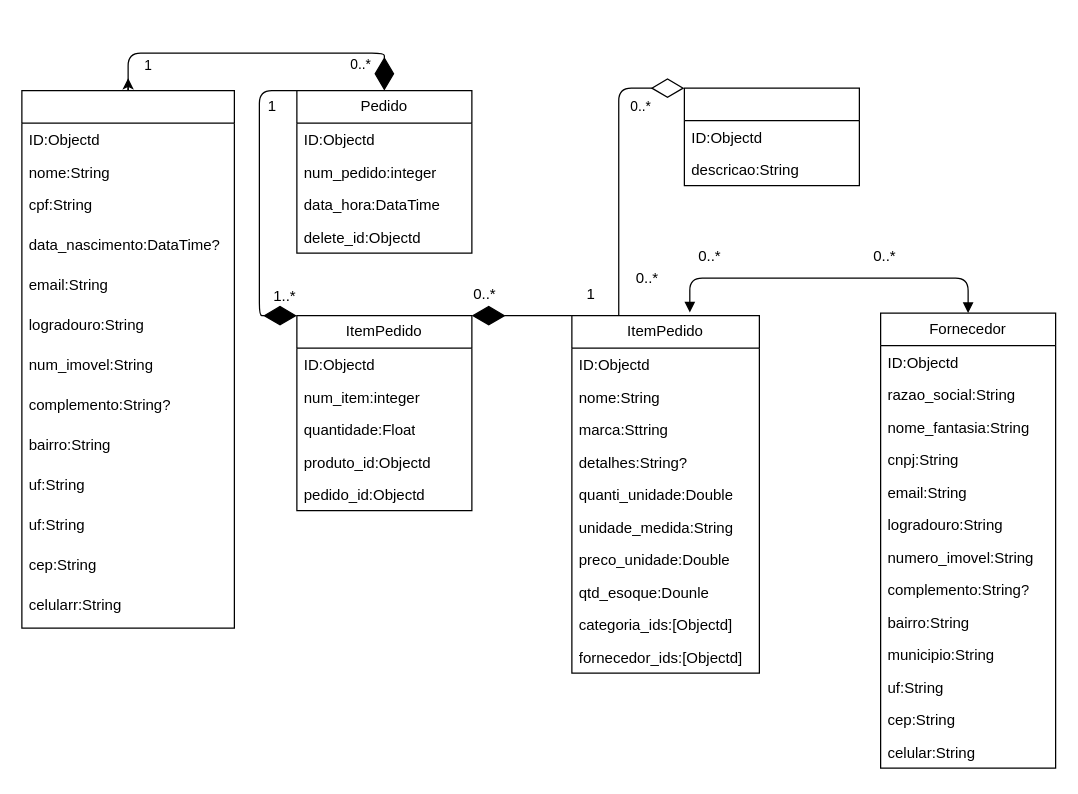
Some shapes in this 1078 by 794 pixel diagram are drawn without their labels. The box of each missing label's shape, as (x1, y1, x2, y2) in pixels:
Categoria: (683, 87, 859, 186)
Cliente: (21, 89, 234, 628)
